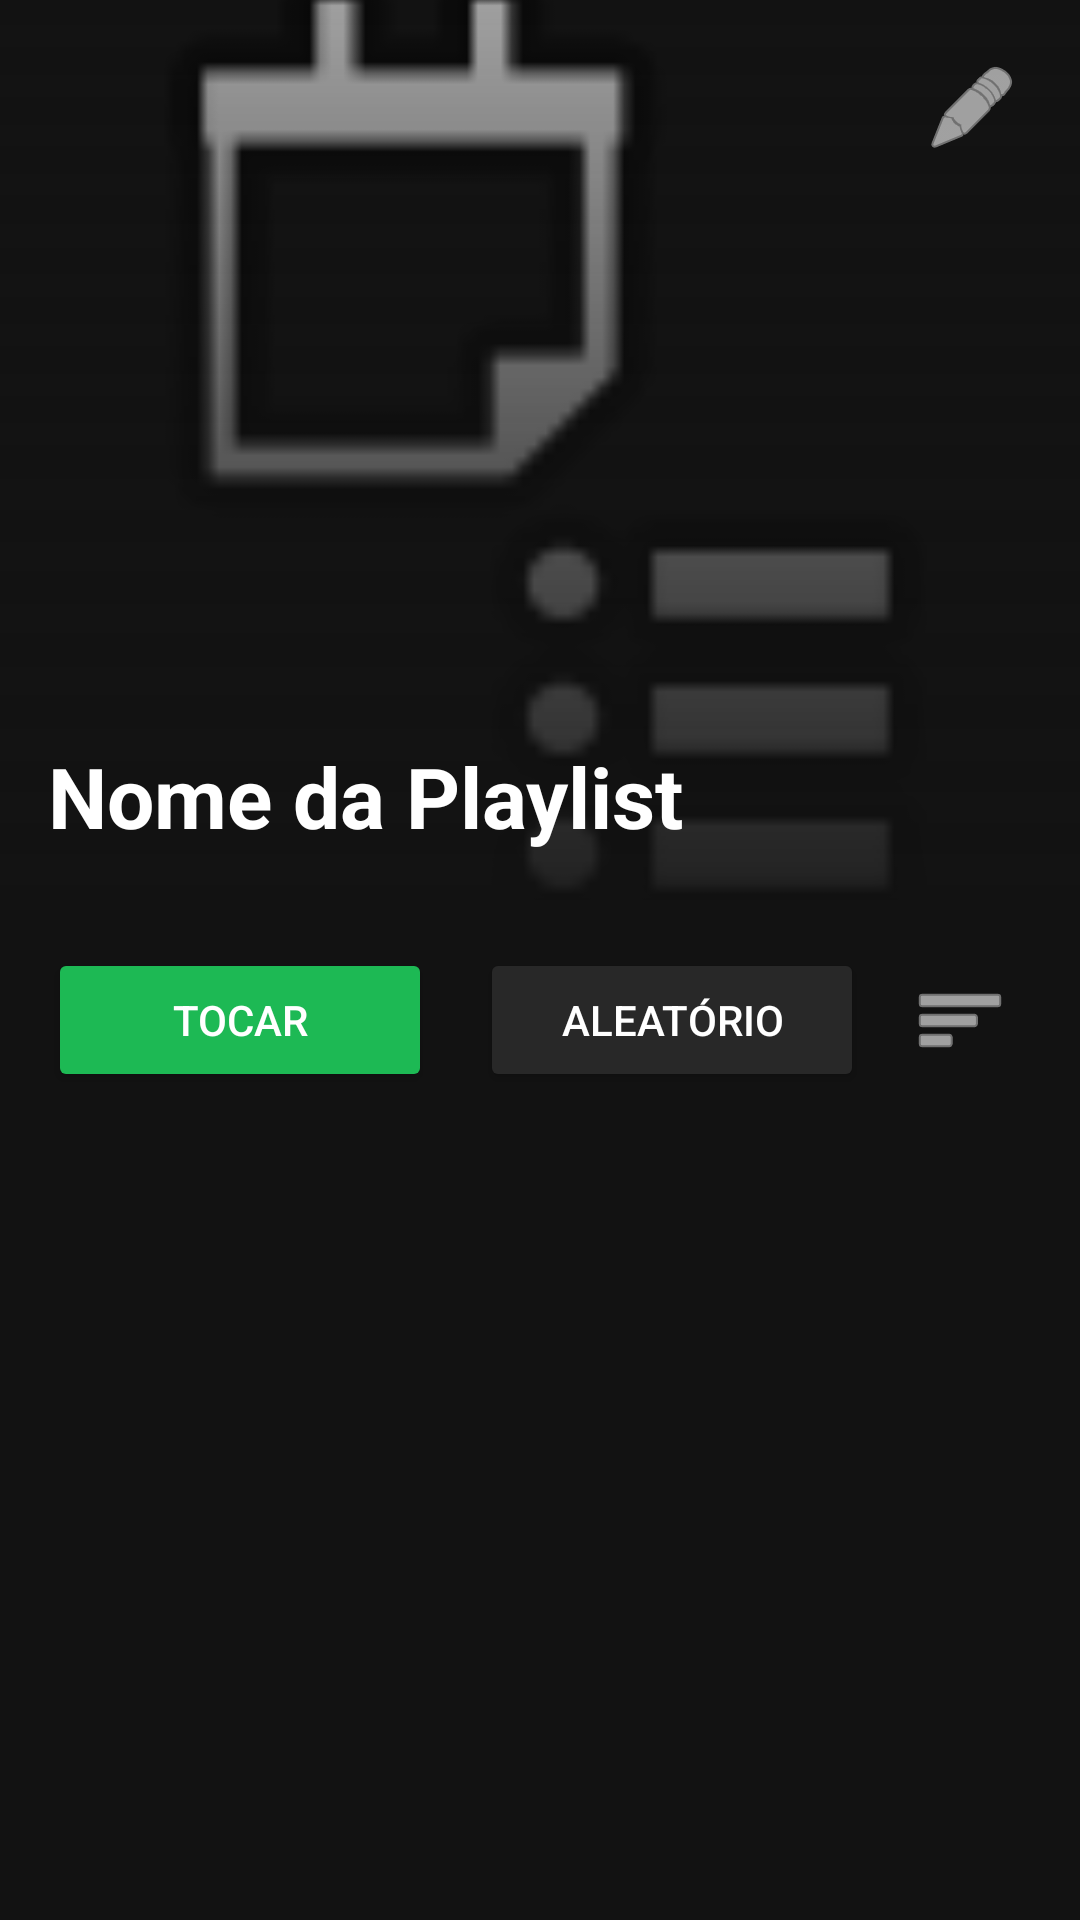

Where icons sit on this 1080x1920 app screen, as box=[x1, y1, x2, y2]:
edit: box=[931, 67, 1012, 148]
sort by size: box=[919, 994, 1001, 1047]
